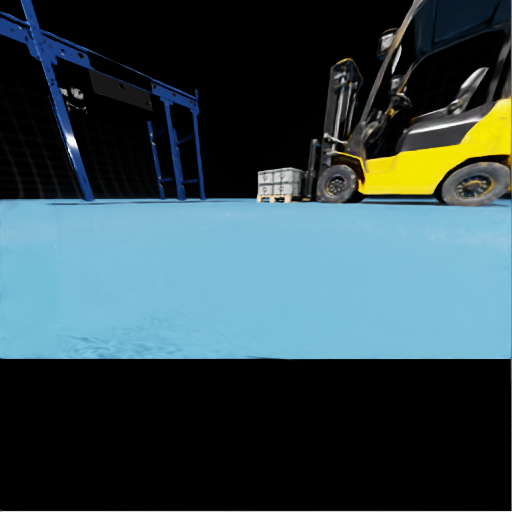transportation_area: (273, 182, 305, 194), (29, 36, 32, 38), (61, 49, 63, 51), (12, 29, 14, 30), (5, 20, 6, 21)
